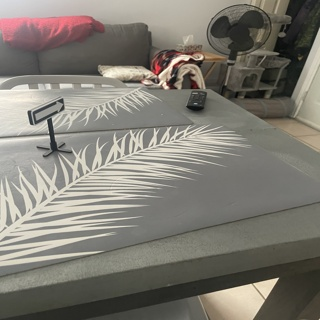sign_oneway_right: (30, 97, 60, 127)
